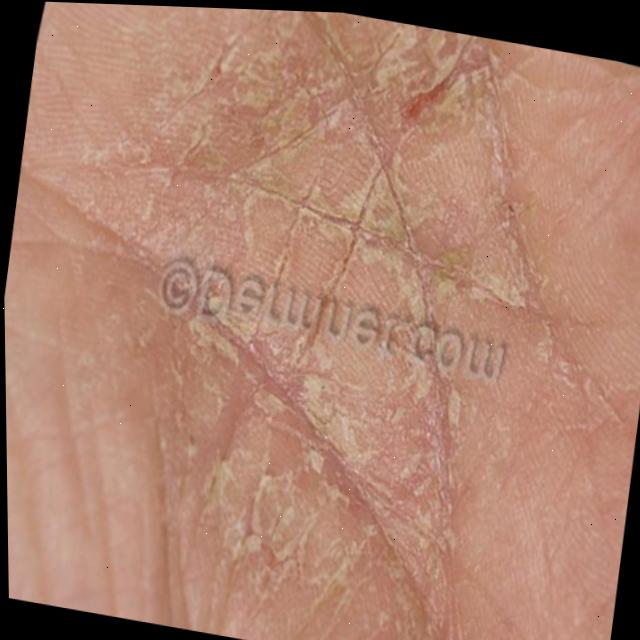Eczema: (97, 4, 547, 633)
